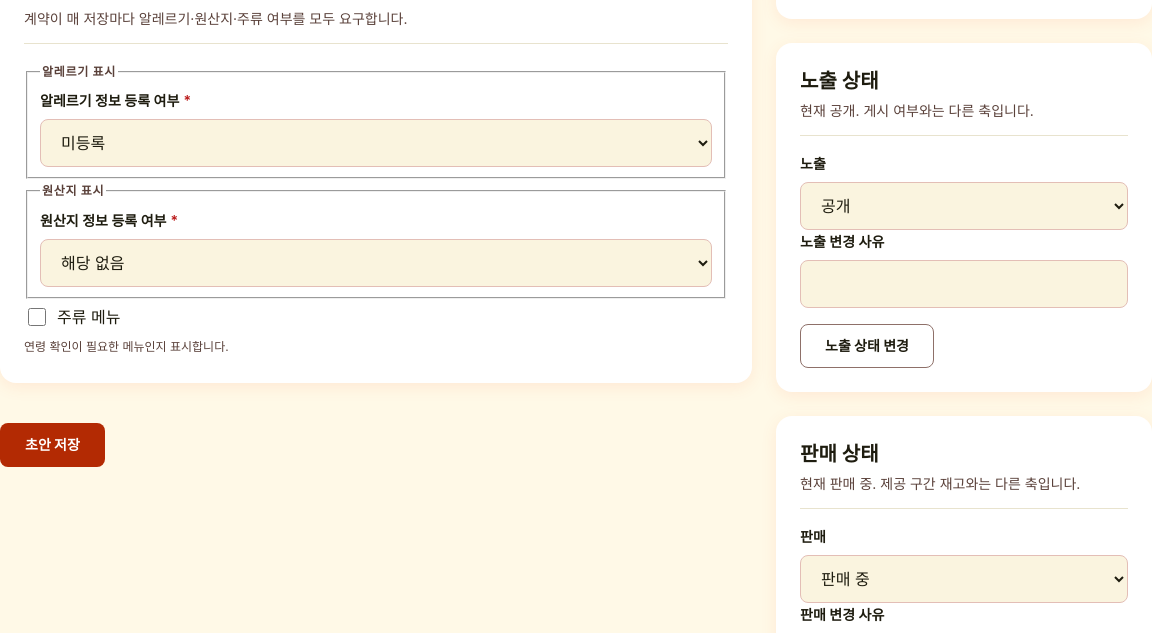
Test case: 메뉴 편집 화면 › 변경 사유 없이 상태를 바꾸지 않는다
(page scrolled)
Click the button "노출 상태 변경" at (867, 346), box [800,324,934,368]
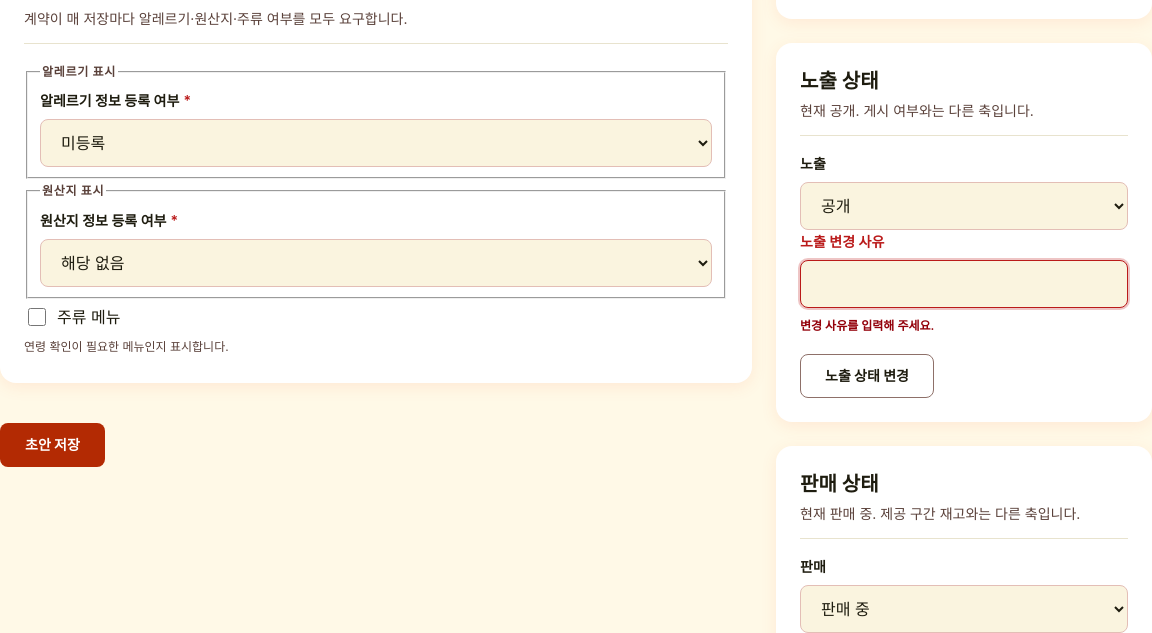
Now the text "변경 사유를 입력해 주세요." is shown, box [800,318,934,333]
